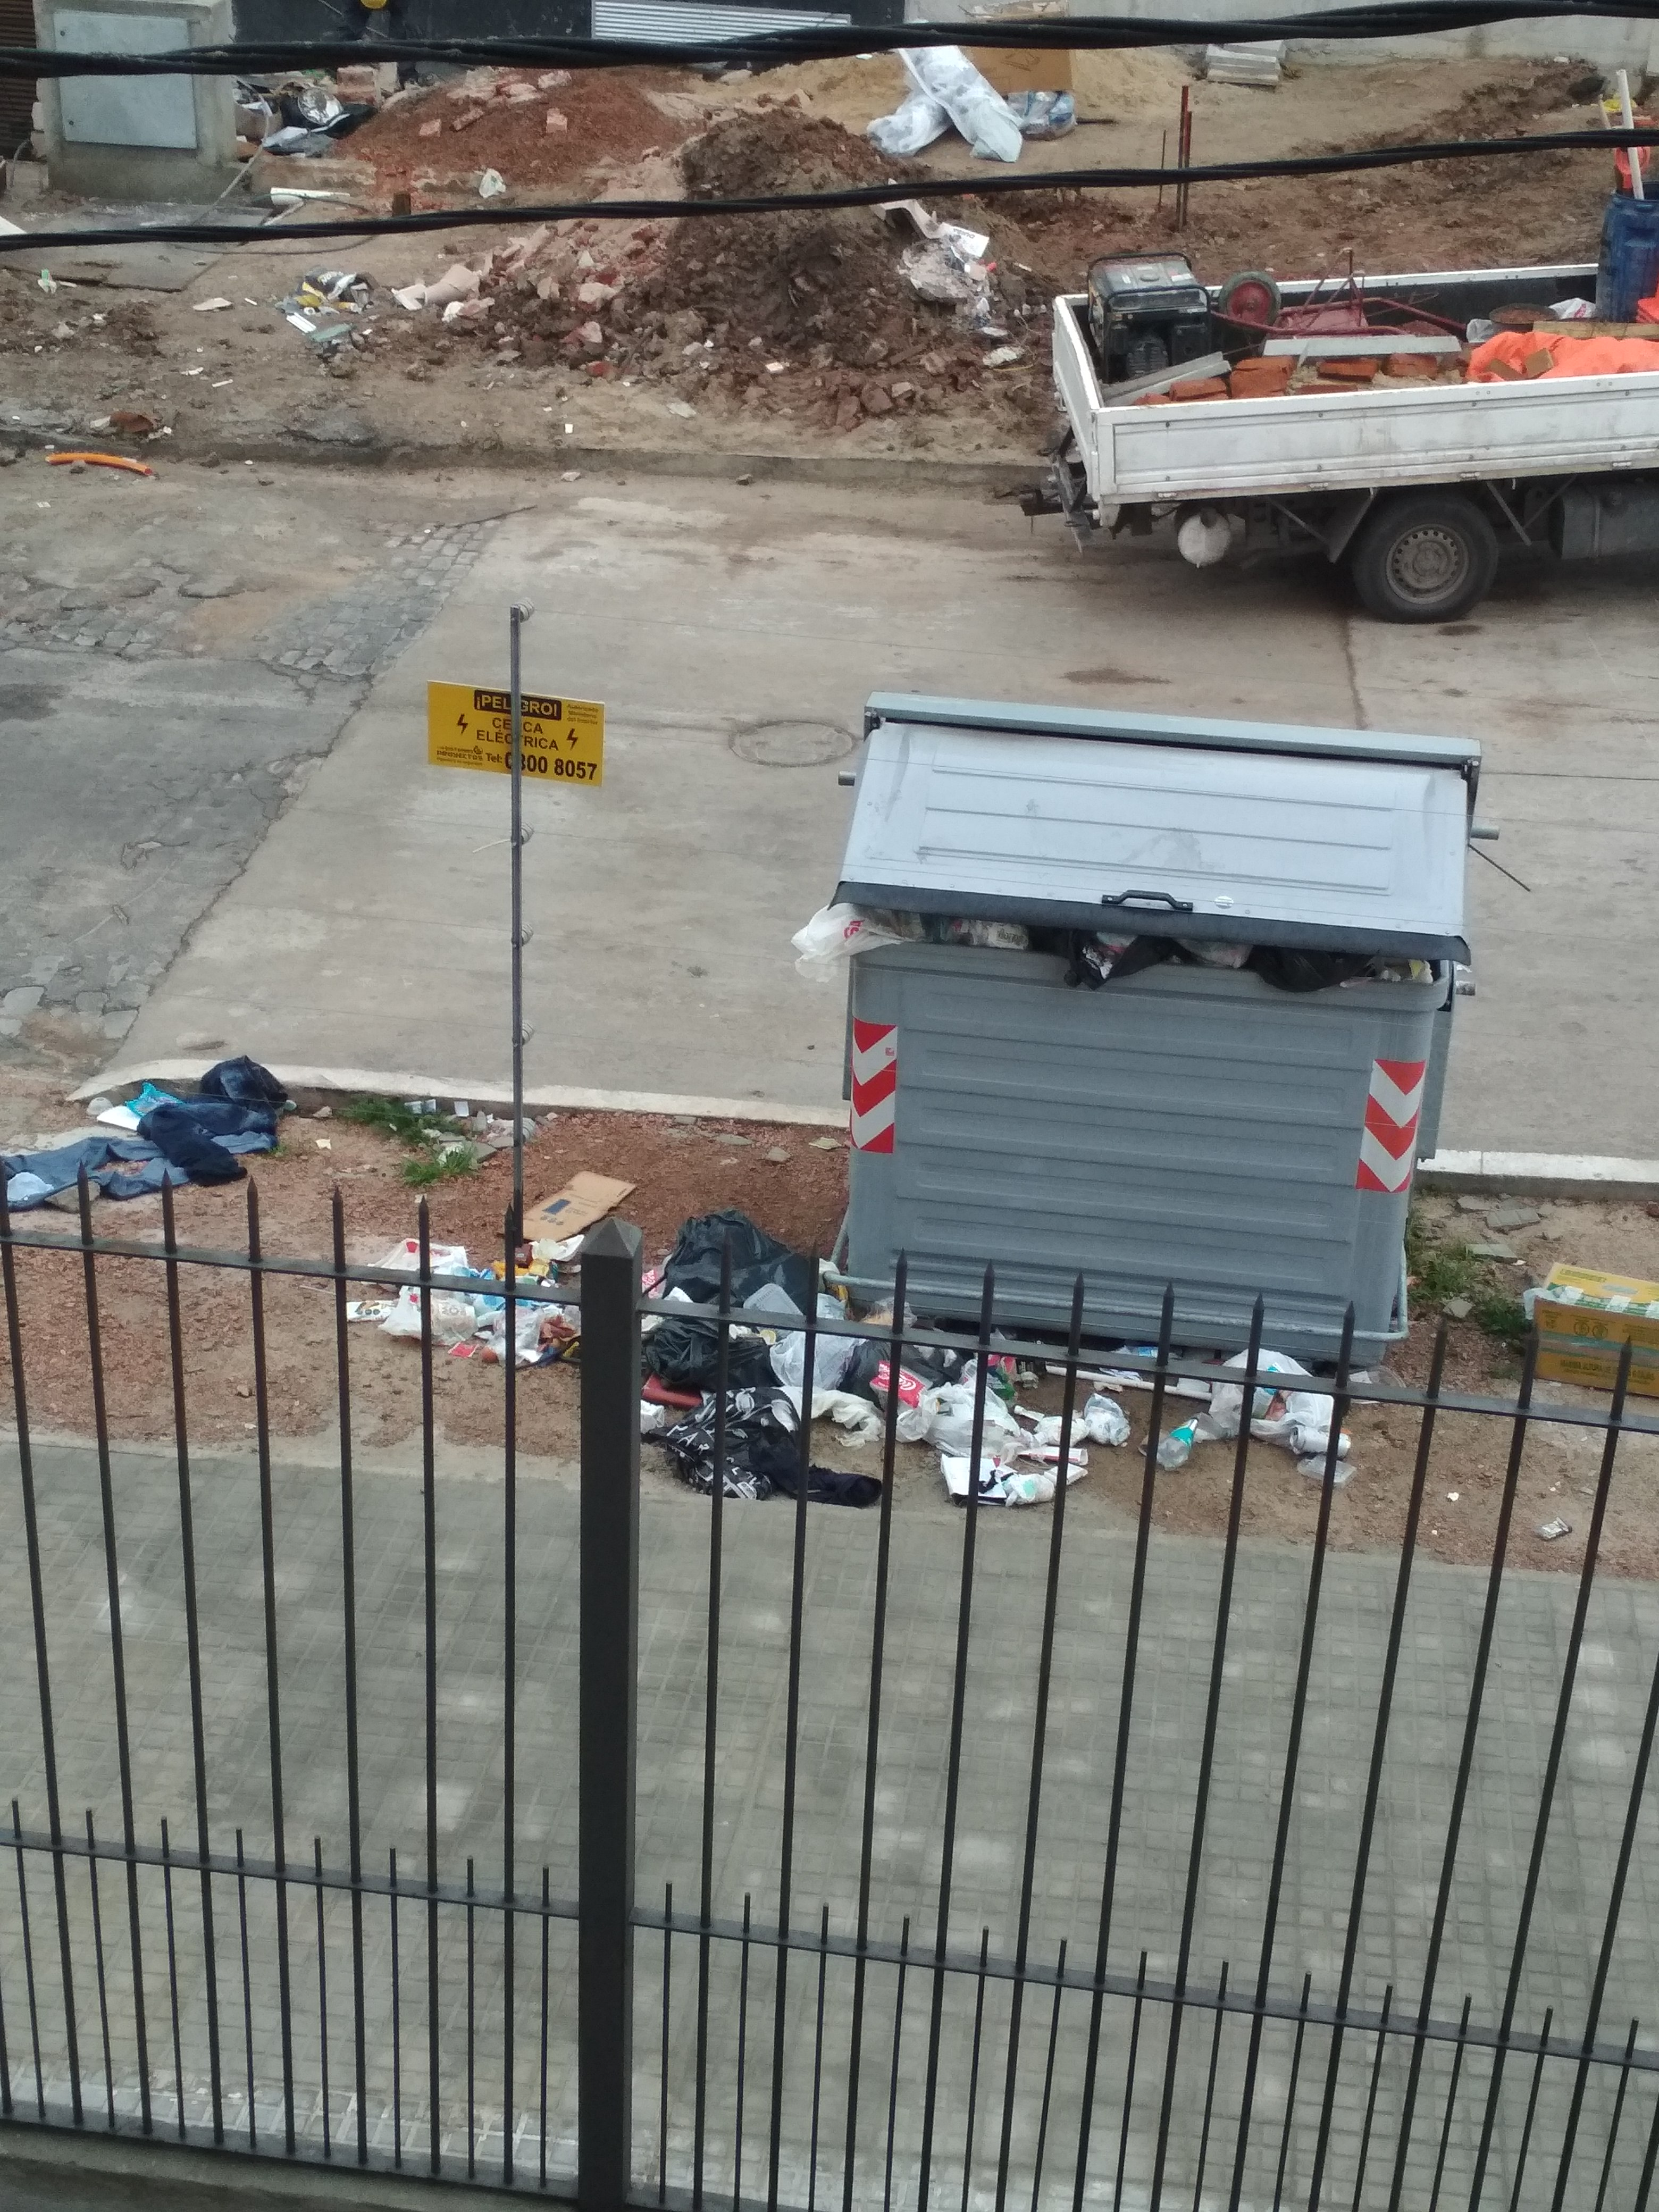container: (823, 686, 1467, 1397)
